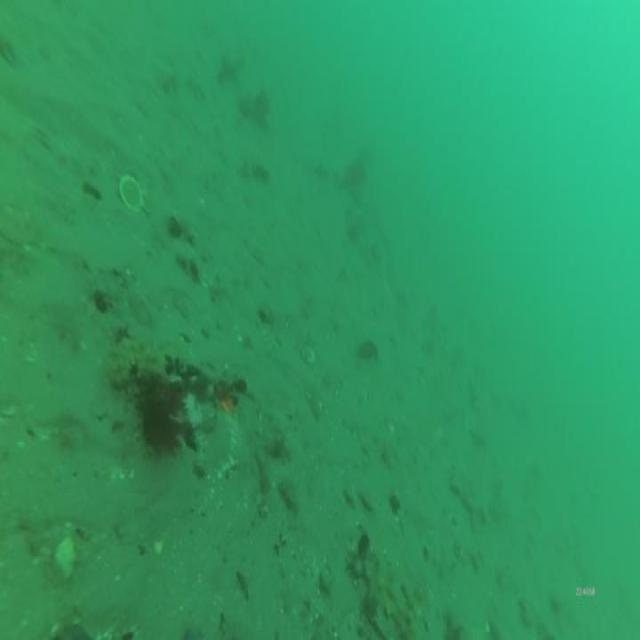echinus: (135, 376, 182, 460), (341, 150, 369, 194), (240, 88, 270, 128)
holothurian: (352, 543, 430, 640), (104, 332, 148, 393)
